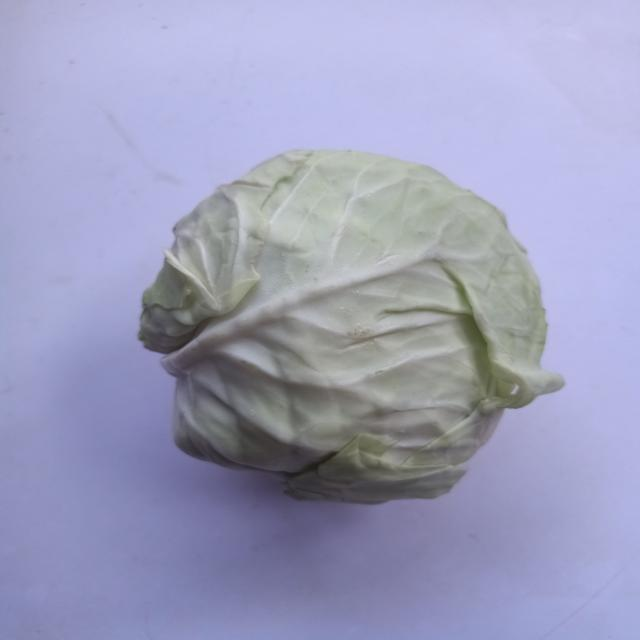Cabbage: (118, 136, 579, 526)
